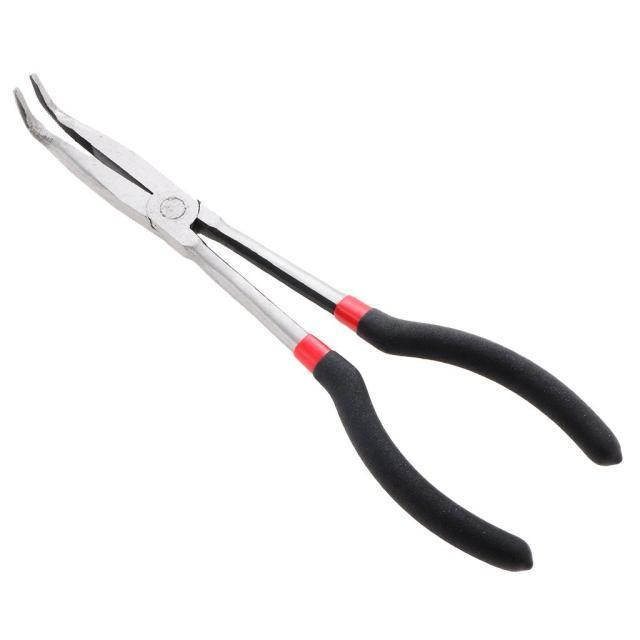pliers: (6, 66, 628, 578)
